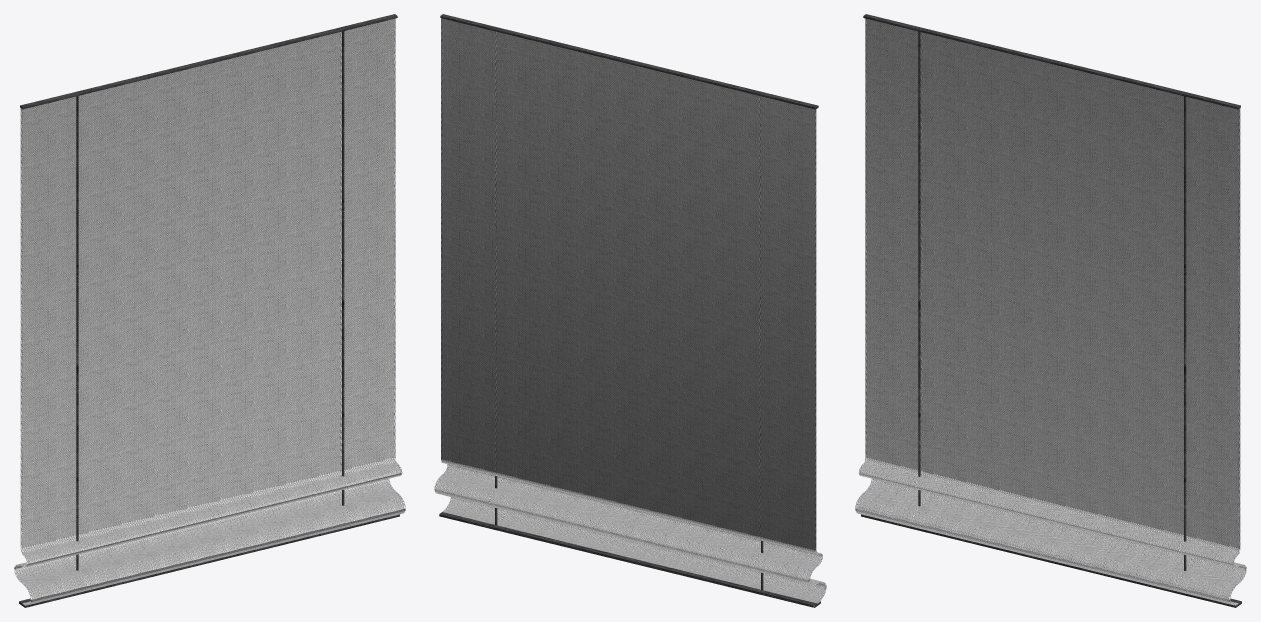
The model's file is window blinds.fbx.
The picture shows the model from 3 angles, left to right: view 1: azimuth 30°, elevation 25°; view 2: azimuth 150°, elevation 25°; view 3: azimuth 330°, elevation 25°; orthographic projection.
Visible parts, largest first — view 1: Group4, Group2, Group3; view 2: Group4; view 3: Group4, Group2, Group3.
Part boxes in pixels (x1,y1,x2,y2): Group4: (14,14,405,607); Group2: (76,96,78,570); Group3: (342,31,344,505); Group4: (434,14,826,607); Group4: (855,14,1246,607); Group2: (918,31,920,506); Group3: (1184,96,1186,570).
Bounding box in the file's own units: 60.27 × 76.77 × 4.62.
